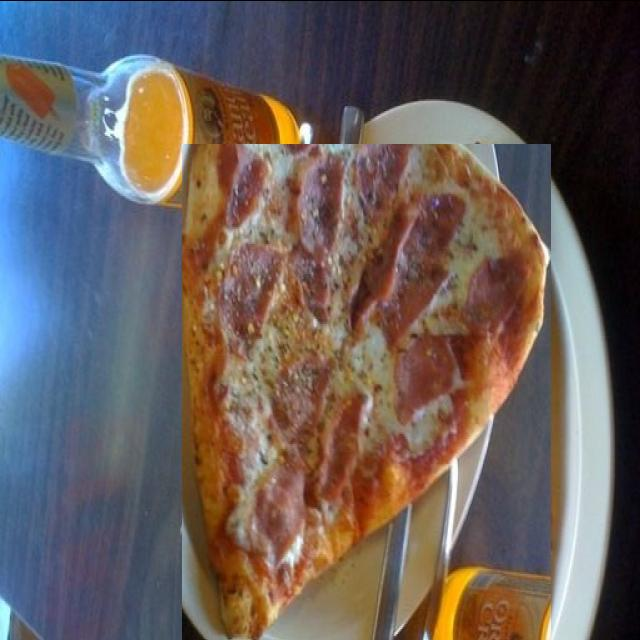pizza: (182, 143, 551, 640)
